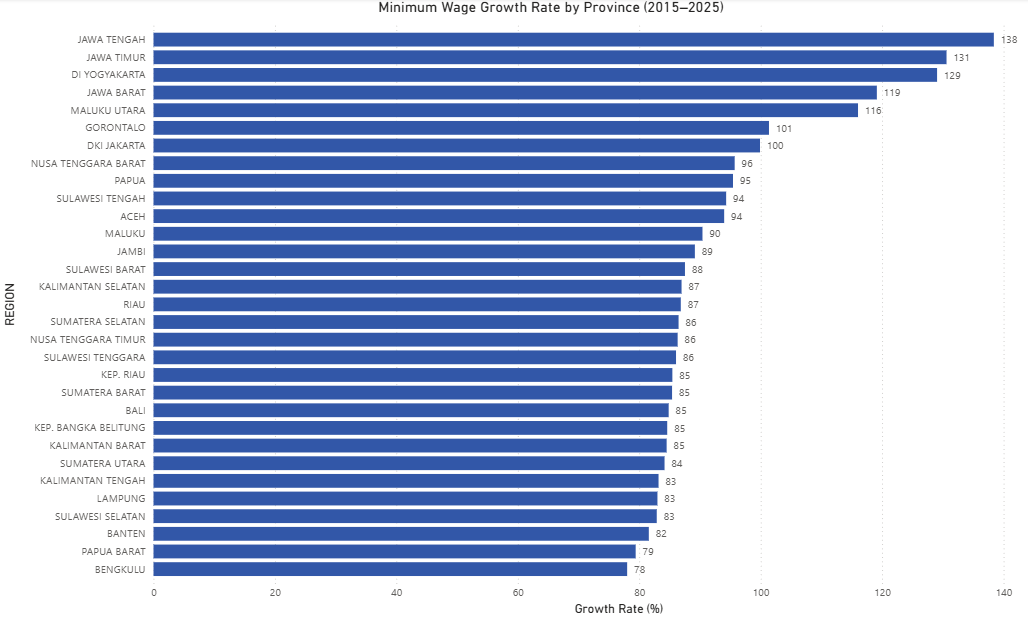

The dashboard page shown, as its layout file describes it:
{"tool":"powerbi","page":{"name":"Growth Rate","canvas":[1280,720],"ordinal":2},"visuals":[{"type":"clusteredBarChart","title":"Minimum Wage Growth Rate by Province (2015–2025)","fields":{"Category":["UMR Data.REGION"],"Y":["UMR Data.Growth Rate (%)"]},"box":[0,0,1280,719.6],"z":0}]}

Visuals, with their boxes on the page's 1280x720 design canvas (x1, y1, x2, y2). These are canvas units, not pixel positions in the 1028x617 screenshot, which may show the page scaled, cropped or inside an application window:
"Minimum Wage Growth Rate by Province (2015–2025)" clusteredBarChart: bbox(0, 0, 1280, 720)
